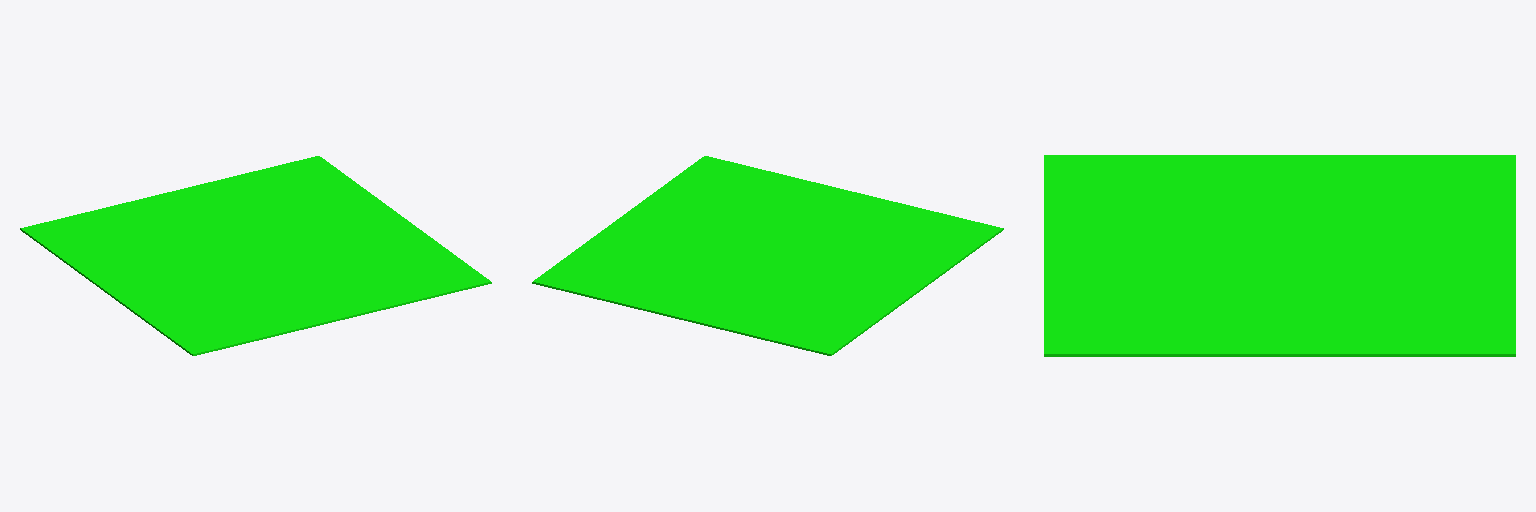
URDF robot description (cabinet):
<?xml version="1.0"?>
<robot name="cabinet">
    <material name="green">
        <color rgba="0.1 1.0 0.1 1.0"/>
    </material>
    <link name="link_cab">
        <visual>
        <origin xyz="-0.7 -0.36 0.0"/>
            <geometry>
                <mesh filename="../../meshes/objects/cabinet.dae"/>
            </geometry>
        </visual>
        <collision>
        <origin xyz="-0.7 -0.36 0.0"/>
            <geometry>
                <mesh filename="../../meshes/objects/cabinet.dae"/>
            </geometry>
        </collision>
    </link>
    <link name="link_ext">
        <visual>
            <material name="green"/>
            <origin xyz="0.0 -0.5 0.0" rpy="0.0 0.0 0.0"/>
            <geometry>
                <box size="1.6 1.6 0.01"/>
            </geometry>
        </visual>
        <collision>
            <origin xyz="0.0 -0.5 0.0" rpy="0.0 0.0 0.0"/>
            <geometry>
                <box size="1.6 1.6 0.005"/>
            </geometry>
        </collision>
    </link>
    <joint name="joint_cabExt" type="fixed">
    <origin xyz="0.0 -0.35 0.785"/>
        <parent link="link_cab"/>
        <child link="link_ext"/>
    </joint>
    
</robot>

--- Render facts (derived) ---
Views: 3 orthographic renders of the robot side by side, from view 1: azimuth 30°, elevation 25°; view 2: azimuth 150°, elevation 25°; view 3: azimuth 270°, elevation 25°.
Robot: cabinet — 2 links, 1 joints (1 fixed); root link link_cab; default pose: every joint at zero.
Visible links, largest first — view 1: link_ext; view 2: link_ext; view 3: link_ext.
Boxes of the visible links, x1,y1,x2,y2 form: link_ext: (20,156,491,355); link_ext: (532,156,1003,355); link_ext: (1044,155,1515,356).
Bounding box of the posed robot: 1.6 × 1.6 × 0.01 m (x, y, z).
0 mesh visuals loaded from 1 distinct referenced files (none loaded); not drawn: 1 (reference not matched to a file when rendering).
